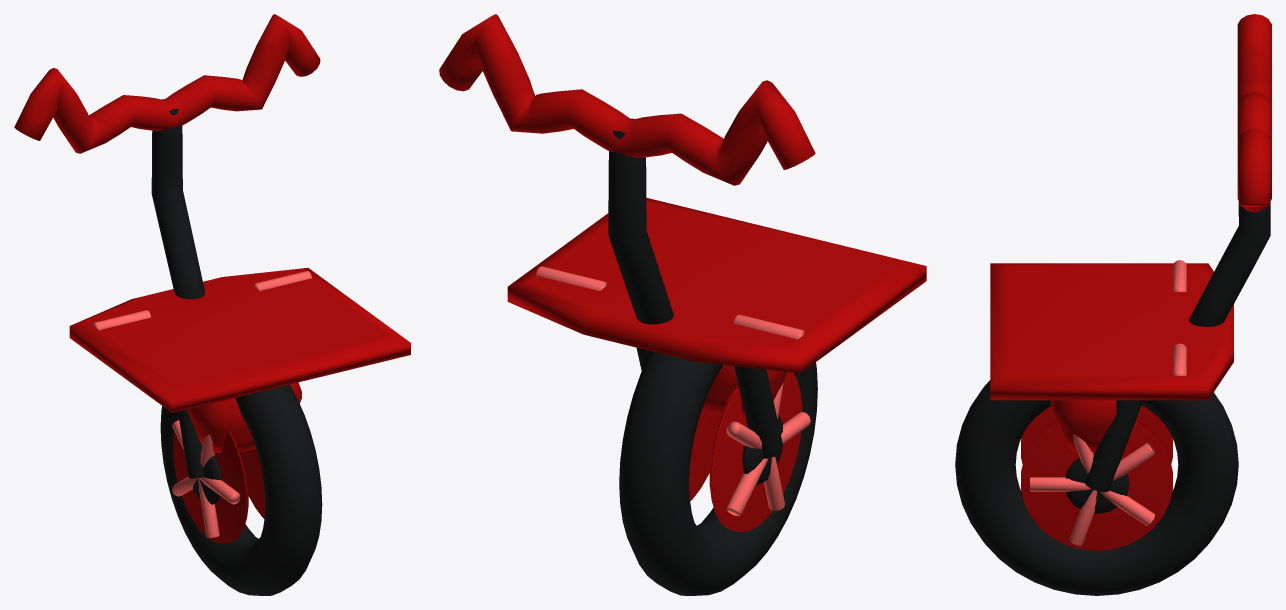
File: ClingerVehicle.glb
The picture shows the model from 3 angles, left to right: view 1: azimuth 30°, elevation 25°; view 2: azimuth 150°, elevation 25°; view 3: azimuth 270°, elevation 25°; orthographic projection. The views are drawn at different scales.
Visible parts, largest first — view 1: RiderDeck, Wheel, Handlebar, HandleStem, Body, Fork; view 2: RiderDeck, Wheel, Handlebar, HandleStem, Fork, Body; view 3: Wheel, RiderDeck, Handlebar, HandleStem, Body, Fork.
Part boxes in pixels (<box>): RiderDeck: <box>69,268,410,412</box>; Wheel: <box>160,384,322,595</box>; Handlebar: <box>14,14,320,153</box>; HandleStem: <box>151,99,204,299</box>; Body: <box>187,382,301,453</box>; Fork: <box>178,409,204,478</box>; RiderDeck: <box>507,197,926,373</box>; Wheel: <box>619,351,817,595</box>; Handlebar: <box>439,14,815,185</box>; HandleStem: <box>608,118,673,324</box>; Fork: <box>636,348,783,458</box>; Body: <box>701,365,786,416</box>; Wheel: <box>955,380,1238,595</box>; RiderDeck: <box>990,260,1233,400</box>; Handlebar: <box>1237,14,1271,212</box>; HandleStem: <box>1189,136,1270,326</box>; Body: <box>1050,400,1116,452</box>; Fork: <box>1085,400,1143,492</box>.
Bounding box in the file's own units: 0.6523 × 1.01 × 0.5564.
1 material, 1 textured.
